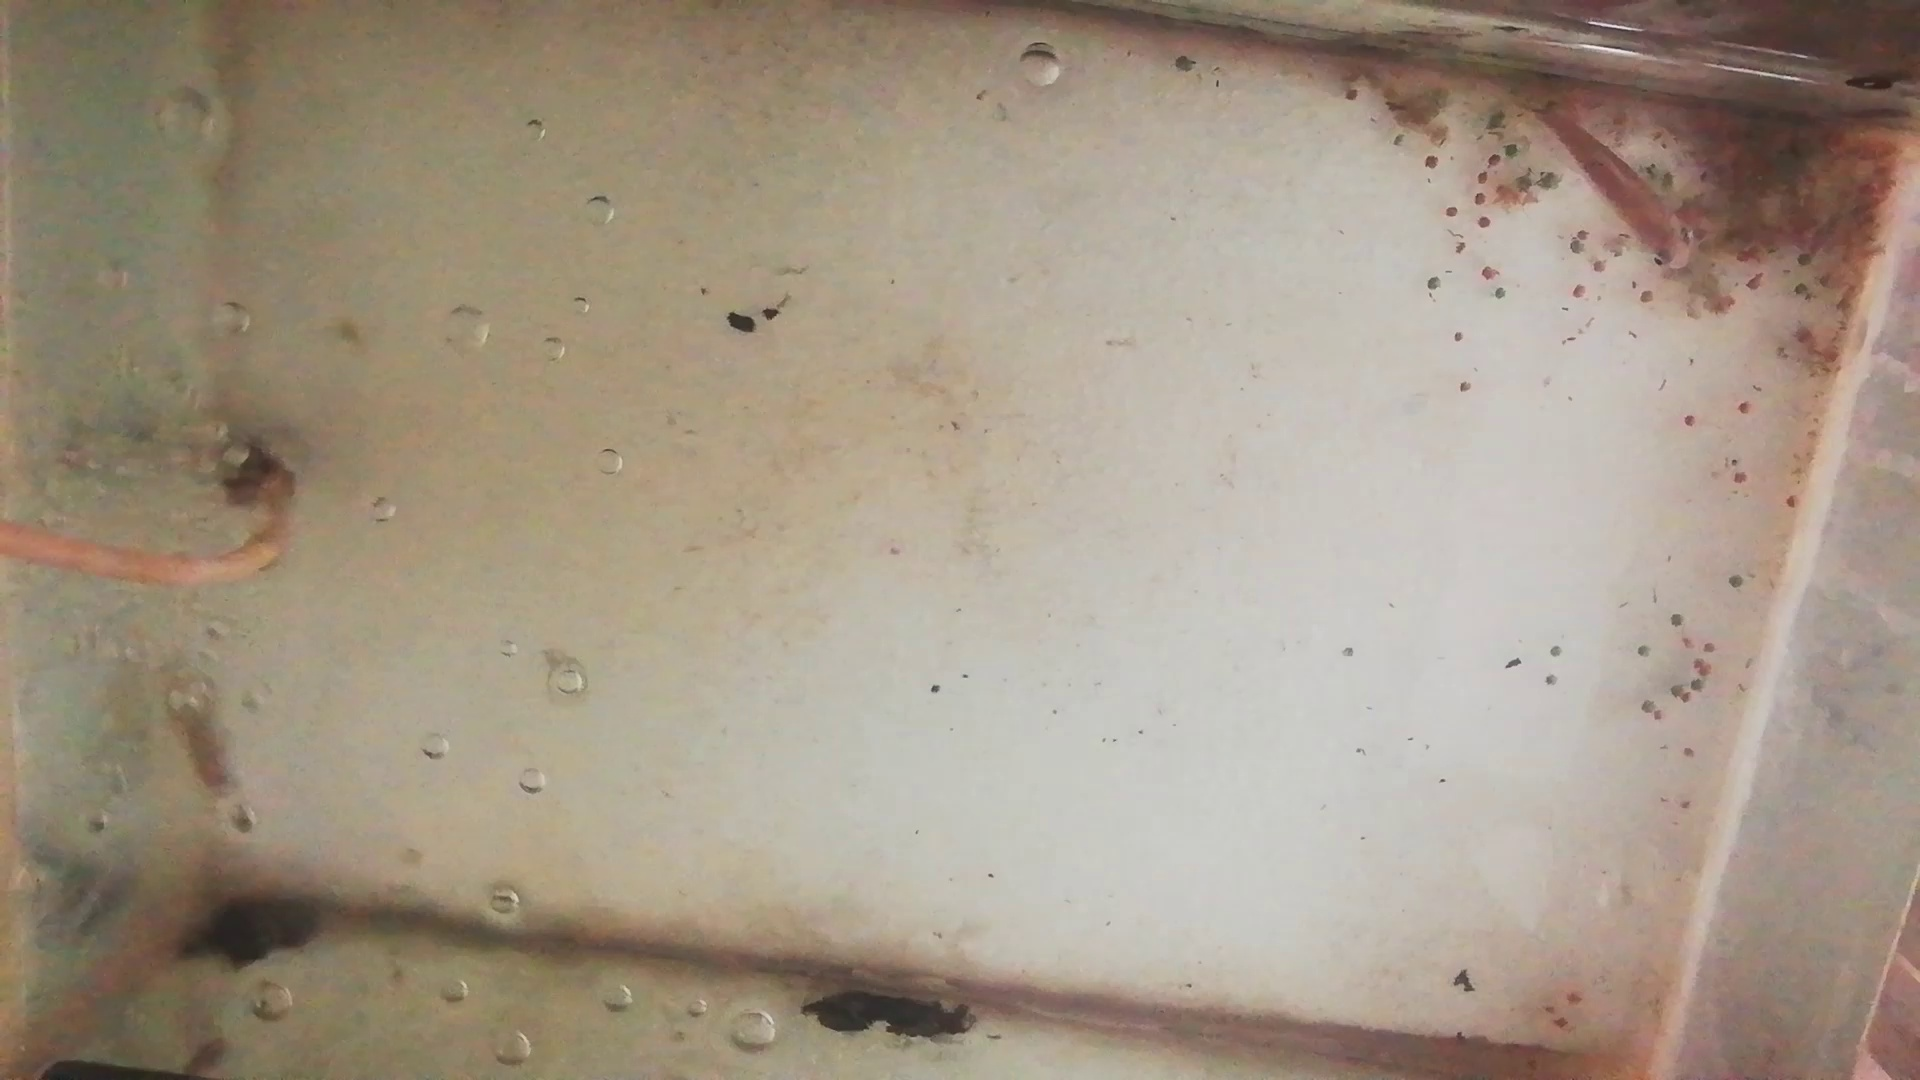fish: (1532, 105, 1698, 268), (169, 658, 245, 789)
